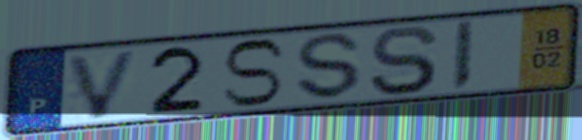2: (147, 44, 206, 116)
I: (447, 18, 478, 93)
S: (366, 23, 442, 98), (218, 37, 290, 110), (294, 31, 364, 101)
V: (65, 47, 144, 122)
